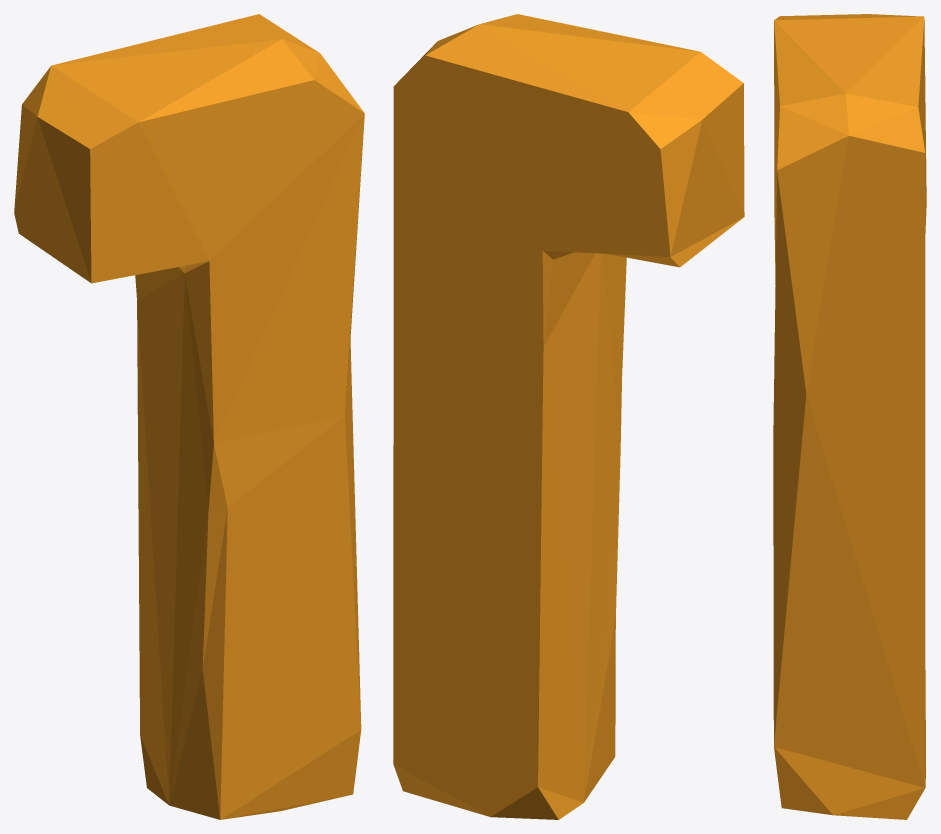
Rendered from SM_Icon_Number_1_01.fbx.
3 views of the same model, side by side, from view 1: azimuth 30°, elevation 25°; view 2: azimuth 150°, elevation 25°; view 3: azimuth 270°, elevation 25° (orthographic). The views are drawn at different scales.
Visible parts, largest first — view 1: SM_Icon_Number_1_01; view 2: SM_Icon_Number_1_01; view 3: SM_Icon_Number_1_01.
Part boxes in pixels (box(x1,y1,x2,y2)): SM_Icon_Number_1_01: box(14, 14, 364, 819); SM_Icon_Number_1_01: box(393, 14, 744, 819); SM_Icon_Number_1_01: box(773, 14, 926, 819).
Bounding box in the file's own units: 21.23 × 53.87 × 10.6.
